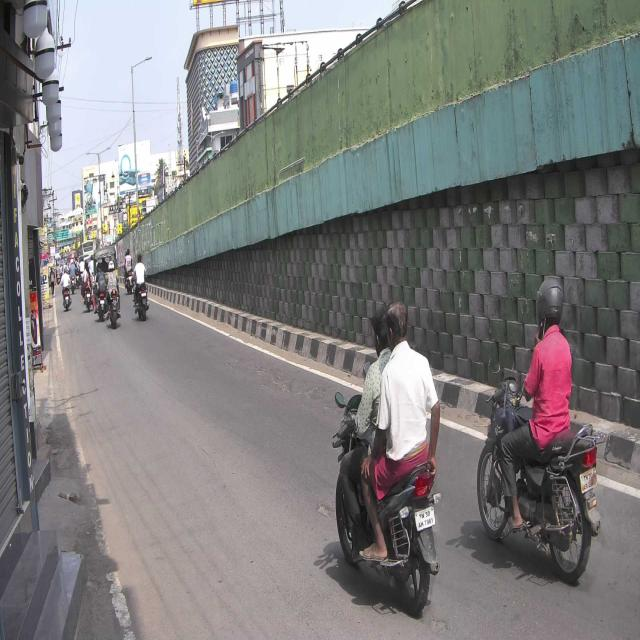double_rider: (333, 296, 442, 620)
single_rider: (476, 275, 604, 575)
